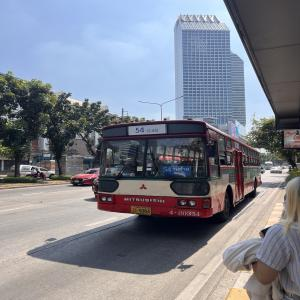BMTA-bus: (91, 120, 261, 221)
Bus Line Number: (127, 126, 168, 133)
Bus Side Number: (166, 206, 202, 219)
Destination Sign: (160, 165, 193, 176)
